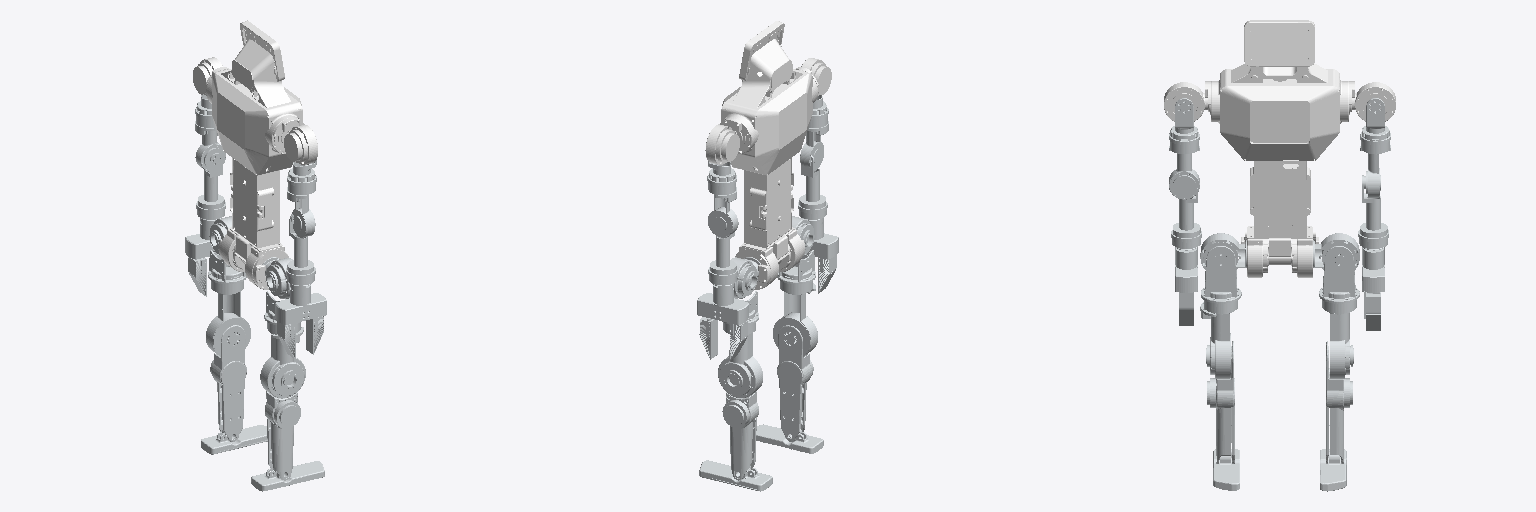
URDF robot description (k-bot_sim):
<robot name="k-bot_sim">
  <link name="floating_base_link">
  </link>
  <joint name="floating_base_joint" type="fixed">
    <parent link="floating_base_link"/>
    <child link="body1-part"/>
    <origin xyz="0 0 0" rpy="1.57 0 3.14"/>
  </joint>
<!-- IMU bring back to the robot
  <joint name="imu_link" type="fixed">
    <origin xyz="0.039989 -0.127910 0" rpy="-1.570796 0 0"/>
    <parent link="body1-part"/>
    <child link="imu"/>
  </joint>
    <link name="imu">
    <visual name="imu_visual">
      <origin xyz="0 0 0" rpy="0 0 0"/>
      <geometry name="imu_geometry">
        <mesh filename="meshes/imu.stl"/>
      </geometry>
      <material name="imu_material">
        <color rgba="0.615686 0.811765 0.929412 1"/>
      </material>
    </visual>
    <inertial name="imu_inertial">
      <mass value="0.010000"/>
      <inertia ixx="0.000001" iyy="0.000001" izz="0.000002" ixy="0" ixz="0" iyz="0"/>
      <origin xyz="-0.007500 0 0.006000" rpy="0 0 0"/>
    </inertial>
  </link>
-->
  <joint name="left_shoulder_pitch_03" type="revolute">
    <origin xyz="-0.000011 0.018090 0.188500" rpy="3.141593 0 3.141593"/>
    <parent link="body1-part"/>
    <child link="shoulder"/>
    <limit effort="60" velocity="6.283" lower="0" upper="3.141593"/>
    <axis xyz="0 0 1"/>
  </joint>
  <joint name="right_shoulder_pitch_03" type="revolute">
    <origin xyz="-0.000011 0.018090 -0.188500" rpy="0 0 -3.141593"/>
    <parent link="body1-part"/>
    <child link="shoulder_2"/>
    <limit effort="60" velocity="6.283" lower="-3.141593" upper="0"/>
    <axis xyz="0 0 1"/>
  </joint>
  <joint name="left_shoulder_roll_03" type="revolute">
    <origin xyz="0.023512 0.000056 -0.067500" rpy="1.570796 0 1.570796"/>
    <parent link="shoulder"/>
    <child link="arm1_top"/>
    <limit effort="60" velocity="6.283" lower="-3.630285" upper="0.479966"/>
    <axis xyz="0 0 -1"/>
  </joint>
  <joint name="right_shoulder_roll_03" type="revolute">
    <origin xyz="0.023512 -0.000056 -0.067500" rpy="1.570796 0 -1.570796"/>
    <parent link="shoulder_2"/>
    <child link="arm1_top_2"/>
    <limit effort="60" velocity="6.283" lower="-0.479966" upper="3.630285"/>
    <axis xyz="0 0 1"/>
  </joint>
  <joint name="left_hip_pitch_04" type="revolute">
    <origin xyz="-0.000011 -0.432010 0.088700" rpy="-3.141593 0 -3.141593"/>
    <parent link="body1-part"/>
    <child link="leg0_shell"/>
    <limit effort="120" velocity="6.283" lower="-1.570796" upper="1.570796"/>
    <axis xyz="0 0 1"/>
  </joint>
  <joint name="right_hip_pitch_04" type="revolute">
    <origin xyz="-0.000011 -0.432010 -0.089200" rpy="0 0 -3.141593"/>
    <parent link="body1-part"/>
    <child link="leg0_shell_2"/>
    <limit effort="120" velocity="6.283" lower="-1.570796" upper="1.570796"/>
    <axis xyz="0 0 1"/>
  </joint>
  <joint name="left_shoulder_yaw_02" type="revolute">
    <origin xyz="-0.140500 0 -0.023500" rpy="-1.570796 0 -1.570796"/>
    <parent link="arm1_top"/>
    <child link="arm2_shell"/>
    <limit effort="17" velocity="12.566" lower="-1.570796" upper="1.570796"/>
    <axis xyz="0 0 1"/>
  </joint>
  <joint name="right_shoulder_yaw_02" type="revolute">
    <origin xyz="-0.140500 0 0.022500" rpy="-3.141593 1.570796 0"/>
    <parent link="arm1_top_2"/>
    <child link="arm2_shell_2"/>
    <limit effort="17" velocity="12.566" lower="-1.570796" upper="1.570796"/>
    <axis xyz="0 0 -1"/>
  </joint>
  <joint name="left_hip_roll_03" type="revolute">
    <origin xyz="0.027500 0 -0.069500" rpy="-1.570796 0 1.570796"/>
    <parent link="leg0_shell"/>
    <child link="leg1_shell"/>
    <limit effort="60" velocity="6.283" lower="-3.185226" upper="0.349066"/>
    <axis xyz="0 0 1"/>
  </joint>
  <joint name="right_hip_roll_03" type="revolute">
    <origin xyz="0.027500 0 -0.069000" rpy="1.570796 0 -1.570796"/>
    <parent link="leg0_shell_2"/>
    <child link="leg1_shell3"/>
    <limit effort="60" velocity="6.283" lower="-0.349066" upper="3.185226"/>
    <axis xyz="0 0 1"/>
  </joint>
  <joint name="left_elbow_02" type="revolute">
    <origin xyz="-0.027000 0 -0.098000" rpy="-3.141593 -1.570796 0"/>
    <parent link="arm2_shell"/>
    <child link="arm3_shell"/>
    <limit effort="17" velocity="12.566" lower="-2.530727" upper="0"/>
    <axis xyz="0 0 1"/>
  </joint>
  <joint name="right_elbow_02" type="revolute">
    <origin xyz="0 -0.027000 0.097500" rpy="-1.570796 1.570796 0"/>
    <parent link="arm2_shell_2"/>
    <child link="arm3_shell2"/>
    <limit effort="17" velocity="12.566" lower="0" upper="2.530727"/>
    <axis xyz="0 0 1"/>
  </joint>
  <joint name="left_hip_yaw_03" type="revolute">
    <origin xyz="-0.157500 0.000120 0.027500" rpy="0 1.570796 0"/>
    <parent link="leg1_shell"/>
    <child link="leg2_shell"/>
    <limit effort="60" velocity="6.283" lower="-1.570796" upper="1.570796"/>
    <axis xyz="0 0 1"/>
  </joint>
  <joint name="right_hip_yaw_03" type="revolute">
    <origin xyz="-0.157500 -0.000120 0.027500" rpy="-3.141593 -1.570796 0"/>
    <parent link="leg1_shell3"/>
    <child link="leg2_shell_2"/>
    <limit effort="60" velocity="6.283" lower="-1.570796" upper="1.570796"/>
    <axis xyz="0 0 1"/>
  </joint>
  <joint name="left_wrist_02" type="revolute">
    <origin xyz="-0.182500 0 0.021500" rpy="-1.570796 0 -1.570796"/>
    <parent link="arm3_shell"/>
    <child link="hand_shell"/>
    <limit effort="17" velocity="12.566" lower="-3.141593" upper="3.141593"/>
    <axis xyz="0 0 1"/>
  </joint>
  <joint name="right_wrist_02" type="revolute">
    <origin xyz="-0.182500 0 0.021500" rpy="1.570796 0 1.570796"/>
    <parent link="arm3_shell2"/>
    <child link="hand_shell_2"/>
    <limit effort="17" velocity="12.566" lower="-3.141593" upper="3.141593"/>
    <axis xyz="0 0 1"/>
  </joint>
  <joint name="left_knee_04" type="revolute">
    <origin xyz="0 -0.027000 -0.142500" rpy="1.570796 0 0"/>
    <parent link="leg2_shell"/>
    <child link="leg3_shell1"/>
    <limit effort="120" velocity="6.283" lower="0" upper="2.094395"/>
    <axis xyz="0 0 -1"/>
  </joint>
  <joint name="right_knee_04" type="revolute">
    <origin xyz="0 -0.027000 -0.142500" rpy="1.570796 0 0"/>
    <parent link="leg2_shell_2"/>
    <child link="leg3_shell11"/>
    <limit effort="120" velocity="6.283" lower="-2.094395" upper="0"/>
    <axis xyz="0 0 -1"/>
  </joint>
  <joint name="right_ankle_02" type="revolute">
    <origin xyz="0 -0.300000 -0.035500" rpy="3.141593 0 3.141593"/>
    <parent link="leg3_shell11"/>
    <child link="foot3"/>
    <limit effort="17" velocity="12.566" lower="-0.698132" upper="0.698132"/>
    <axis xyz="0 0 1.0"/>
  </joint>
  <joint name="left_ankle_02" type="revolute">
    <origin xyz="0 -0.300000 0.009500" rpy="0 0 0"/>
    <parent link="leg3_shell1"/>
    <child link="foot1"/>
    <limit effort="17" velocity="12.566" lower="-0.698132" upper="0.698132"/>
    <axis xyz="0 0 -1"/>
  </joint>
  <link name="body1-part">
    <visual name="body1-part_visual">
      <origin xyz="0 0 0" rpy="0 0 0"/>
      <geometry name="body1-part_geometry">
        <mesh filename="meshes/body1-part.stl"/>
      </geometry>
      <material name="body1-part_material">
        <color rgba="1 1 1 1"/>
      </material>
    </visual>
    <collision name="body1-part.collision">
      <origin xyz="0 0 0" rpy="0 0 0"/>
      <geometry name="body1-part_collision_geometry">
        <mesh filename="meshes/body1-part.collision.stl"/>
      </geometry>
    </collision>
    <inertial name="body1-part_inertial">
      <mass value="9.415838"/>
      <inertia ixx="0.406102" iyy="0.096732" izz="0.321504" ixy="0.001018" ixz="0.000014" iyz="-0.000180"/>
      <origin xyz="-0.000153 -0.214129 -0.000094" rpy="0 0 0"/>
    </inertial>
  </link>
  <link name="shoulder">
    <visual name="shoulder_visual">
      <origin xyz="0 0 0" rpy="0 0 0"/>
      <geometry name="shoulder_geometry">
        <mesh filename="meshes/shoulder.stl"/>
      </geometry>
      <material name="shoulder_material">
        <color rgba="1 1 1 1"/>
      </material>
    </visual>
    <collision name="shoulder.collision">
      <origin xyz="0 0 0" rpy="0 0 0"/>
      <geometry name="shoulder_collision_geometry">
        <mesh filename="meshes/shoulder.collision.stl"/>
      </geometry>
    </collision>
    <inertial name="shoulder_inertial">
      <mass value="1.107356"/>
      <inertia ixx="0.001481" iyy="0.001039" izz="0.000986" ixy="0" ixz="-0.000003" iyz="0"/>
      <origin xyz="-0.002144 0.000055 -0.066483" rpy="0 0 0"/>
    </inertial>
  </link>
  <link name="shoulder_2">
    <visual name="shoulder_visual_2">
      <origin xyz="0 0 0" rpy="0 0 0"/>
      <geometry name="shoulder_geometry_2">
        <mesh filename="meshes/shoulder_2.stl"/>
      </geometry>
      <material name="shoulder_material_2">
        <color rgba="1 1 1 1"/>
      </material>
    </visual>
    <collision name="shoulder.collision_2">
      <origin xyz="0 0 0" rpy="0 0 0"/>
      <geometry name="shoulder_collision_geometry_2">
        <mesh filename="meshes/shoulder_2.collision.stl"/>
      </geometry>
    </collision>
    <inertial name="shoulder_inertial_2">
      <mass value="1.107354"/>
      <inertia ixx="0.001481" iyy="0.001039" izz="0.000986" ixy="0" ixz="-0.000003" iyz="0"/>
      <origin xyz="-0.002144 -0.000055 -0.066483" rpy="0 0 0"/>
    </inertial>
  </link>
  <link name="arm1_top">
    <visual name="arm1_top_visual">
      <origin xyz="0 0 0" rpy="0 0 0"/>
      <geometry name="arm1_top_geometry">
        <mesh filename="meshes/arm1_top.stl"/>
      </geometry>
      <material name="arm1_top_material">
        <color rgba="0.898039 0.917647 0.929412 1"/>
      </material>
    </visual>
    <inertial name="arm1_top_inertial">
      <mass value="0.572732"/>
      <inertia ixx="0.000453" iyy="0.001076" izz="0.001035" ixy="0" ixz="-0.000195" iyz="0"/>
      <origin xyz="-0.099486 -0.000001 -0.019082" rpy="0 0 0"/>
    </inertial>
  </link>
  <link name="arm1_top_2">
    <visual name="arm1_top_2_visual">
      <origin xyz="0 0 0" rpy="0 0 0"/>
      <geometry name="arm1_top_2_geometry">
        <mesh filename="meshes/arm1_top_2.stl"/>
      </geometry>
      <material name="arm1_top_2_material">
        <color rgba="0.898039 0.917647 0.929412 1"/>
      </material>
    </visual>
    <inertial name="arm1_top_2_inertial">
      <mass value="0.572732"/>
      <inertia ixx="0.000453" iyy="0.001076" izz="0.001035" ixy="0" ixz="0.000195" iyz="0"/>
      <origin xyz="-0.099486 -0.000001 0.018082" rpy="0 0 0"/>
    </inertial>
  </link>
  <link name="leg0_shell">
    <visual name="leg0_shell_visual">
      <origin xyz="0 0 0" rpy="0 0 0"/>
      <geometry name="leg0_shell_geometry">
        <mesh filename="meshes/leg0_shell.stl"/>
      </geometry>
      <material name="leg0_shell_material">
        <color rgba="0.898039 0.917647 0.929412 1"/>
      </material>
    </visual>
    <collision name="leg0_shell.collision">
      <origin xyz="0 0 0" rpy="0 0 0"/>
      <geometry name="leg0_shell_collision_geometry">
        <mesh filename="meshes/leg0_shell.collision.stl"/>
      </geometry>
    </collision>
    <inertial name="leg0_shell_inertial">
      <mass value="1.323448"/>
      <inertia ixx="0.001886" iyy="0.001425" izz="0.001300" ixy="0" ixz="0.000007" iyz="0"/>
      <origin xyz="-0.003746 0 -0.068125" rpy="0 0 0"/>
    </inertial>
  </link>
  <link name="leg0_shell_2">
    <visual name="leg0_shell_visual_2">
      <origin xyz="0 0 0" rpy="0 0 0"/>
      <geometry name="leg0_shell_geometry_2">
        <mesh filename="meshes/leg0_shell_2.stl"/>
      </geometry>
      <material name="leg0_shell_material_2">
        <color rgba="0.898039 0.917647 0.929412 1"/>
      </material>
    </visual>
    <collision name="leg0_shell.collision_2">
      <origin xyz="0 0 0" rpy="0 0 0"/>
      <geometry name="leg0_shell_collision_geometry_2">
        <mesh filename="meshes/leg0_shell_2.collision.stl"/>
      </geometry>
    </collision>
    <inertial name="leg0_shell_inertial_2">
      <mass value="1.323448"/>
      <inertia ixx="0.001886" iyy="0.001425" izz="0.001300" ixy="0" ixz="0.000007" iyz="0"/>
      <origin xyz="-0.003746 0 -0.067625" rpy="0 0 0"/>
    </inertial>
  </link>
  <link name="arm2_shell">
    <visual name="arm2_shell_visual">
      <origin xyz="0 0 0" rpy="0 0 0"/>
      <geometry name="arm2_shell_geometry">
        <mesh filename="meshes/arm2_shell.stl"/>
      </geometry>
      <material name="arm2_shell_material">
        <color rgba="0.898039 0.917647 0.929412 1"/>
      </material>
    </visual>
    <collision name="arm2_shell.collision">
      <origin xyz="0 0 0" rpy="0 0 0"/>
      <geometry name="arm2_shell_collision_geometry">
        <mesh filename="meshes/arm2_shell.collision.stl"/>
      </geometry>
    </collision>
    <inertial name="arm2_shell_inertial">
      <mass value="0.510678"/>
      <inertia ixx="0.000675" iyy="0.000532" izz="0.000255" ixy="0" ixz="-0.000006" iyz="0"/>
      <origin xyz="-0.006339 0 -0.090482" rpy="0 0 0"/>
    </inertial>
  </link>
  <link name="arm2_shell_2">
    <visual name="arm2_shell_visual_2">
      <origin xyz="0 0 0" rpy="0 0 0"/>
      <geometry name="arm2_shell_geometry_2">
        <mesh filename="meshes/arm2_shell_2.stl"/>
      </geometry>
      <material name="arm2_shell_material_2">
        <color rgba="0.898039 0.917647 0.929412 1"/>
      </material>
    </visual>
    <collision name="arm2_shell.collision_2">
      <origin xyz="0 0 0" rpy="0 0 0"/>
      <geometry name="arm2_shell_collision_geometry_2">
        <mesh filename="meshes/arm2_shell_2.collision.stl"/>
      </geometry>
    </collision>
    <inertial name="arm2_shell_inertial_2">
      <mass value="0.510678"/>
      <inertia ixx="0.000532" iyy="0.000675" izz="0.000255" ixy="0" ixz="0" iyz="0.000006"/>
      <origin xyz="0 -0.006339 0.089982" rpy="0 0 0"/>
    </inertial>
  </link>
  <link name="leg1_shell">
    <visual name="leg1_shell_visual">
      <origin xyz="0 0 0" rpy="0 0 0"/>
      <geometry name="leg1_shell_geometry">
        <mesh filename="meshes/leg1_shell.stl"/>
      </geometry>
      <material name="leg1_shell_material">
        <color rgba="0.898039 0.917647 0.929412 1"/>
      </material>
    </visual>
    <inertial name="leg1_shell_inertial">
      <mass value="1.264352"/>
      <inertia ixx="0.001481" iyy="0.002486" izz="0.002413" ixy="-0.000018" ixz="0.000290" iyz="-0.000002"/>
      <origin xyz="-0.112524 0.000529 0.025259" rpy="0 0 0"/>
    </inertial>
  </link>
  <link name="leg1_shell3">
    <visual name="leg1_shell3_visual">
      <origin xyz="0 0 0" rpy="0 0 0"/>
      <geometry name="leg1_shell3_geometry">
        <mesh filename="meshes/leg1_shell3.stl"/>
      </geometry>
      <material name="leg1_shell3_material">
        <color rgba="0.898039 0.917647 0.929412 1"/>
      </material>
    </visual>
    <inertial name="leg1_shell3_inertial">
      <mass value="1.264352"/>
      <inertia ixx="0.001481" iyy="0.002486" izz="0.002413" ixy="0.000018" ixz="0.000290" iyz="0.000002"/>
      <origin xyz="-0.112524 -0.000529 0.025259" rpy="0 0 0"/>
    </inertial>
  </link>
  <link name="arm3_shell">
    <visual name="arm3_shell_visual">
      <origin xyz="0 0 0" rpy="0 0 0"/>
      <geometry name="arm3_shell_geometry">
        <mesh filename="meshes/arm3_shell.stl"/>
      </geometry>
      <material name="arm3_shell_material">
        <color rgba="0.898039 0.917647 0.929412 1"/>
      </material>
    </visual>
    <inertial name="arm3_shell_inertial">
      <mass value="0.578536"/>
      <inertia ixx="0.000428" iyy="0.001354" izz="0.001332" ixy="0" ixz="0.000144" iyz="0"/>
      <origin xyz="-0.140169 0 0.019433" rpy="0 0 0"/>
    </inertial>
  </link>
  <link name="arm3_shell2">
    <visual name="arm3_shell2_visual">
      <origin xyz="0 0 0" rpy="0 0 0"/>
      <geometry name="arm3_shell2_geometry">
        <mesh filename="meshes/arm3_shell2.stl"/>
      </geometry>
      <material name="arm3_shell2_material">
        <color rgba="0.898039 0.917647 0.929412 1"/>
      </material>
    </visual>
    <inertial name="arm3_shell2_inertial">
      <mass value="0.578536"/>
      <inertia ixx="0.000428" iyy="0.001354" izz="0.001332" ixy="0" ixz="0.000144" iyz="0"/>
      <origin xyz="-0.140169 0 0.019433" rpy="0 0 0"/>
    </inertial>
  </link>
  <link name="leg2_shell">
    <visual name="leg2_shell_visual">
      <origin xyz="0 0 0" rpy="0 0 0"/>
      <geometry name="leg2_shell_geometry">
        <mesh filename="meshes/leg2_shell.stl"/>
      </geometry>
      <material name="leg2_shell_material">
        <color rgba="0.898039 0.917647 0.929412 1"/>
      </material>
    </visual>
    <inertial name="leg2_shell_inertial">
      <mass value="1.820923"/>
      <inertia ixx="0.003118" iyy="0.004225" izz="0.002064" ixy="0" ixz="0" iyz="-0.000034"/>
      <origin xyz="0 0.000532 -0.137308" rpy="0 0 0"/>
    </inertial>
  </link>
  <link name="leg2_shell_2">
    <visual name="leg2_shell_visual_2">
      <origin xyz="0 0 0" rpy="0 0 0"/>
      <geometry name="leg2_shell_geometry_2">
        <mesh filename="meshes/leg2_shell_2.stl"/>
      </geometry>
      <material name="leg2_shell_material_2">
        <color rgba="0.898039 0.917647 0.929412 1"/>
      </material>
    </visual>
    <inertial name="leg2_shell_inertial_2">
      <mass value="1.820923"/>
      <inertia ixx="0.003118" iyy="0.004225" izz="0.002064" ixy="0" ixz="0" iyz="-0.000034"/>
      <origin xyz="0 0.000532 -0.137308" rpy="0 0 0"/>
    </inertial>
  </link>
  <link name="hand_shell">
    <visual name="hand_shell_visual">
      <origin xyz="0 0 0" rpy="0 0 0"/>
      <geometry name="hand_shell_geometry">
        <mesh filename="meshes/hand_shell.stl"/>
      </geometry>
      <material name="hand_shell_material">
        <color rgba="0.898039 0.917647 0.929412 1"/>
      </material>
    </visual>
    <collision name="hand_shell.collision">
      <origin xyz="0 0 0" rpy="0 0 0"/>
      <geometry name="hand_shell_collision_geometry">
        <mesh filename="meshes/hand_shell.collision.stl"/>
      </geometry>
    </collision>
    <inertial name="hand_shell_inertial">
      <mass value="0.793063"/>
      <inertia ixx="0.002034" iyy="0.002869" izz="0.001280" ixy="0" ixz="-0.000023" iyz="0.000004"/>
      <origin xyz="0.000709 0.000130 -0.074657" rpy="0 0 0"/>
    </inertial>
  </link>
  <link name="hand_shell_2">
    <visual name="hand_shell_visual_2">
      <origin xyz="0 0 0" rpy="0 0 0"/>
      <geometry name="hand_shell_geometry_2">
        <mesh filename="meshes/hand_shell_2.stl"/>
      </geometry>
      <material name="hand_shell_material_2">
        <color rgba="0.898039 0.917647 0.929412 1"/>
      </material>
    </visual>
    <collision name="hand_shell.collision_2">
      <origin xyz="0 0 0" rpy="0 0 0"/>
      <geometry name="hand_shell_collision_geometry_2">
        <mesh filename="meshes/hand_shell_2.collision.stl"/>
      </geometry>
    </collision>
    <inertial name="hand_shell_inertial_2">
      <mass value="0.793063"/>
      <inertia ixx="0.002034" iyy="0.002869" izz="0.001280" ixy="0" ixz="-0.000023" iyz="0.000004"/>
      <origin xyz="0.000709 0.000130 -0.074657" rpy="0 0 0"/>
    </inertial>
  </link>
  <link name="leg3_shell1">
    <visual name="leg3_shell1_visual">
      <origin xyz="0 0 0" rpy="0 0 0"/>
      <geometry name="leg3_shell1_geometry">
        <mesh filename="meshes/leg3_shell1.stl"/>
      </geometry>
      <material name="leg3_shell1_material">
        <color rgba="0.898039 0.917647 0.929412 1"/>
      </material>
    </visual>
    <collision name="leg3_shell1.collision">
      <origin xyz="0 0 0" rpy="0 0 0"/>
      <geometry name="leg3_shell1_collision_geometry">
        <mesh filename="meshes/leg3_shell1.collision.stl"/>
      </geometry>
    </collision>
    <inertial name="leg3_shell1_inertial">
      <mass value="1.109955"/>
      <inertia ixx="0.006740" iyy="0.001013" izz="0.006746" ixy="0.000062" ixz="-0.000017" iyz="0.000013"/>
      <origin xyz="0.001098 -0.131322 -0.023162" rpy="0 0 0"/>
    </inertial>
  </link>
  <link name="leg3_shell11">
    <visual name="leg3_shell11_visual">
      <origin xyz="0 0 0" rpy="0 0 0"/>
      <geometry name="leg3_shell11_geometry">
        <mesh filename="meshes/leg3_shell11.stl"/>
      </geometry>
      <material name="leg3_shell11_material">
        <color rgba="0.898039 0.917647 0.929412 1"/>
      </material>
    </visual>
    <collision name="leg3_shell11.collision">
      <origin xyz="0 0 0" rpy="0 0 0"/>
      <geometry name="leg3_shell11_collision_geometry">
        <mesh filename="meshes/leg3_shell11.collision.stl"/>
      </geometry>
    </collision>
    <inertial name="leg3_shell11_inertial">
      <mass value="1.109962"/>
      <inertia ixx="0.006740" iyy="0.001013" izz="0.006746" ixy="-0.000062" ixz="0.000017" iyz="0.000013"/>
      <origin xyz="-0.001098 -0.131322 -0.023162" rpy="0 0 0"/>
    </inertial>
  </link>
  <link name="foot3">
    <visual name="foot3_visual">
      <origin xyz="0 0 0" rpy="0 0 0"/>
      <geometry name="foot3_geometry">
        <mesh filename="meshes/foot3.stl"/>
      </geometry>
      <material name="foot3_material">
        <color rgba="0.898039 0.917647 0.929412 1"/>
      </material>
    </visual>
    <collision name="foot3.collision">
      <origin xyz="0 0 0" rpy="0 0 0"/>
      <geometry name="foot3_collision_geometry">
        <mesh filename="meshes/foot3.collision.stl"/>
      </geometry>
    </collision>
    <inertial name="foot3_inertial">
      <mass value="0.582091"/>
      <inertia ixx="0.000284" iyy="0.002188" izz="0.002024" ixy="0.000040" ixz="0.000033" iyz="-0.000004"/>
      <origin xyz="0.021350 -0.019419 -0.023724" rpy="0 0 0"/>
    </inertial>
  </link>
  <link name="foot1">
    <visual name="foot1_visual">
      <origin xyz="0 0 0" rpy="0 0 0"/>
      <geometry name="foot1_geometry">
        <mesh filename="meshes/foot1.stl"/>
      </geometry>
      <material name="foot1_material">
        <color rgba="0.898039 0.917647 0.929412 1"/>
      </material>
    </visual>
    <collision name="foot1.collision">
      <origin xyz="0 0 0" rpy="0 0 0"/>
      <geometry name="foot1_collision_geometry">
        <mesh filename="meshes/foot1.collision.stl"/>
      </geometry>
    </collision>
    <inertial name="foot1_inertial">
      <mass value="0.582091"/>
      <inertia ixx="0.000284" iyy="0.002188" izz="0.002024" ixy="0.000040" ixz="-0.000033" iyz="0.000004"/>
      <origin xyz="0.021350 -0.019419 -0.019276" rpy="0 0 0"/>
    </inertial>
  </link>
</robot>

--- Render facts (derived) ---
3 views of the same robot in one strip: view 1: azimuth 30°, elevation 25°; view 2: azimuth 150°, elevation 25°; view 3: azimuth 270°, elevation 25° (orthographic).
Robot: k-bot_sim — 22 links, 21 joints (20 revolute, 1 fixed); root link floating_base_link; default pose: all joints at 0.
Links seen in each view (by area): view 1: body1-part, leg3_shell1, hand_shell_2, leg3_shell11, leg2_shell_2, leg2_shell, hand_shell, arm3_shell, foot3, shoulder_2, arm3_shell2, foot1 (+8 smaller); view 2: body1-part, leg3_shell11, hand_shell, leg3_shell1, leg2_shell, leg2_shell_2, hand_shell_2, foot1, shoulder, arm3_shell2, leg1_shell3, foot3 (+7 smaller); view 3: body1-part, leg1_shell3, leg1_shell, leg3_shell11, leg3_shell1, hand_shell, hand_shell_2, leg2_shell, leg2_shell_2, arm1_top_2, arm1_top, arm3_shell (+9 smaller).
Link boxes in pixels (x1,y1,x2,y2): body1-part: [206, 20, 304, 289]; leg3_shell1: [210, 325, 246, 441]; hand_shell_2: [275, 284, 326, 359]; leg3_shell11: [265, 391, 300, 480]; leg2_shell_2: [260, 333, 305, 398]; leg2_shell: [206, 291, 250, 356]; hand_shell: [185, 218, 220, 296]; arm3_shell: [196, 153, 225, 219]; foot3: [251, 461, 324, 491]; shoulder_2: [281, 125, 317, 164]; arm3_shell2: [286, 214, 315, 285]; foot1: [201, 425, 267, 454]; body1-part: [720, 21, 818, 289]; leg3_shell11: [777, 325, 813, 441]; hand_shell: [697, 283, 748, 360]; leg3_shell1: [722, 391, 758, 480]; leg2_shell: [718, 333, 762, 397]; leg2_shell_2: [773, 292, 817, 356]; hand_shell_2: [803, 218, 838, 293]; foot1: [699, 460, 772, 491]; shoulder: [705, 124, 742, 164]; arm3_shell2: [798, 155, 827, 219]; leg1_shell3: [777, 250, 815, 293]; foot3: [756, 424, 823, 453]; body1-part: [1205, 20, 1354, 277]; leg1_shell3: [1200, 246, 1241, 318]; leg1_shell: [1319, 246, 1359, 313]; leg3_shell11: [1207, 341, 1234, 463]; leg3_shell1: [1326, 341, 1352, 463]; hand_shell: [1362, 247, 1384, 330]; hand_shell_2: [1175, 247, 1197, 325]; leg2_shell: [1329, 312, 1353, 378]; leg2_shell_2: [1206, 312, 1231, 378]; arm1_top_2: [1169, 98, 1199, 153]; arm1_top: [1360, 98, 1390, 153]; arm3_shell: [1358, 175, 1388, 248].
Bounding box of the posed robot: 0.2205 × 0.622 × 1.33 m (x, y, z).
21 mesh visuals loaded from 21 distinct referenced files (21 binary STL).